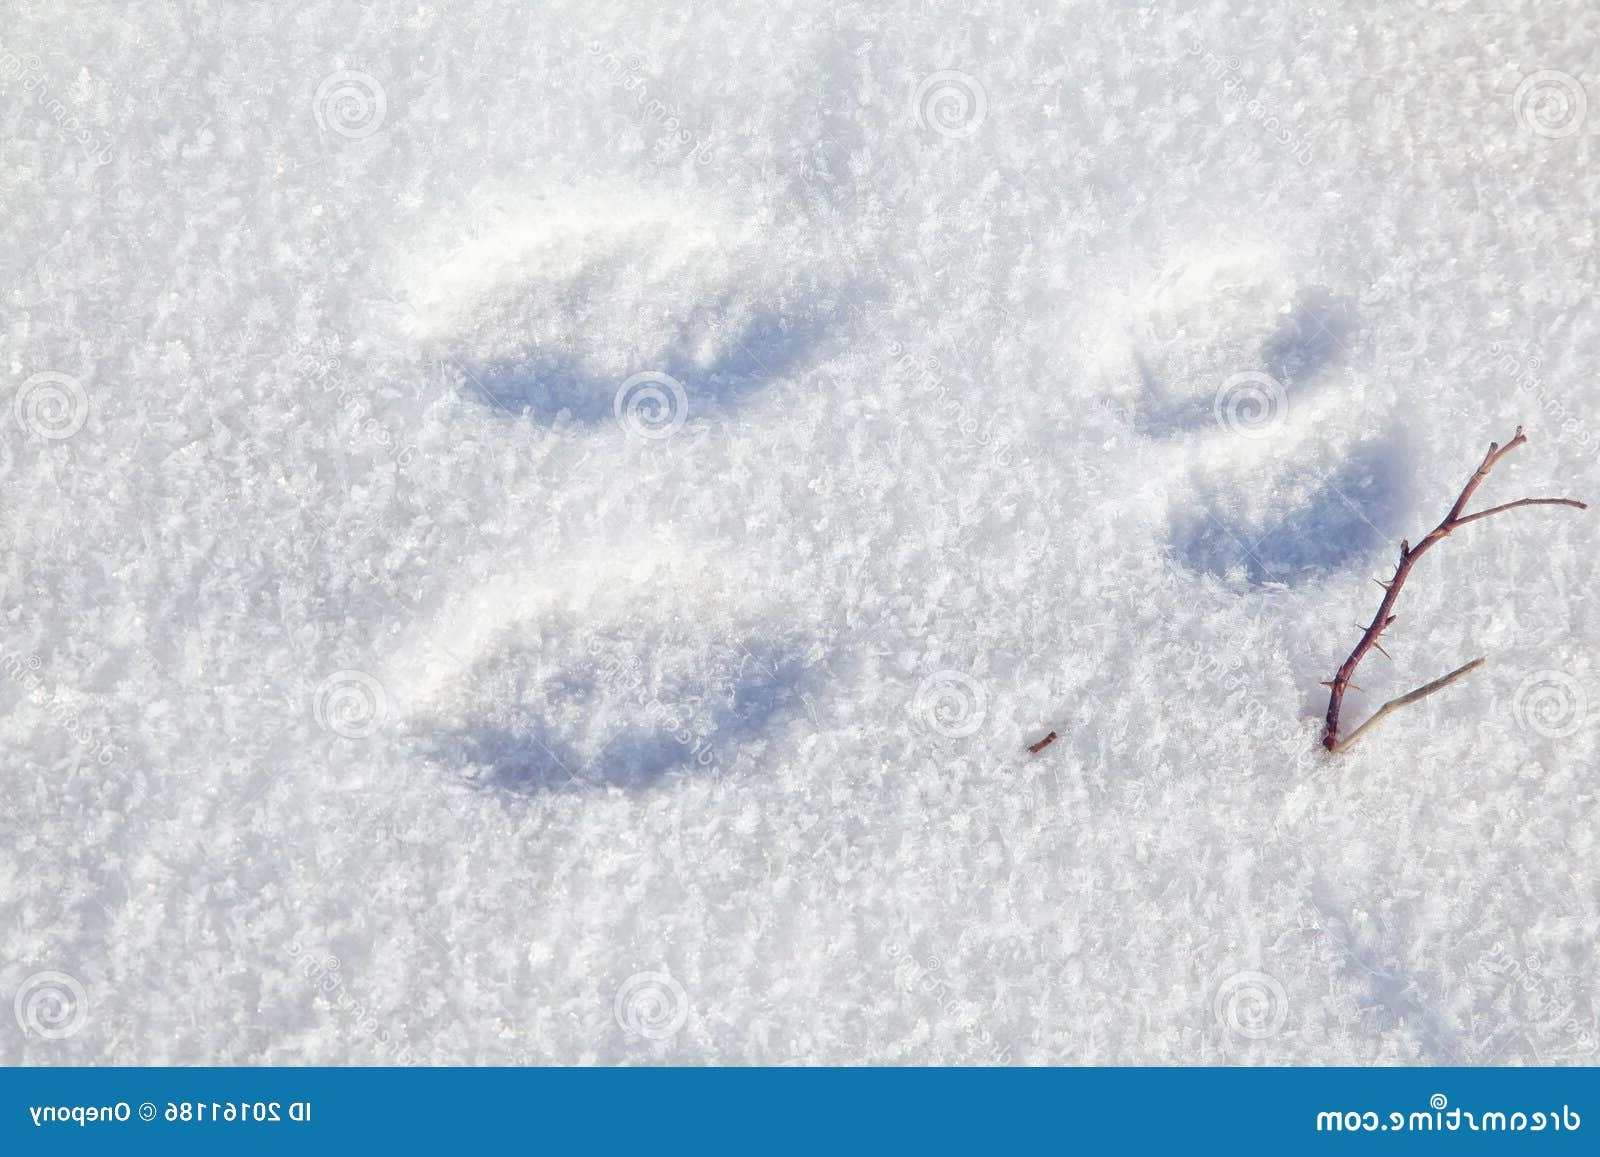rabbit: (353, 185, 1472, 833)
